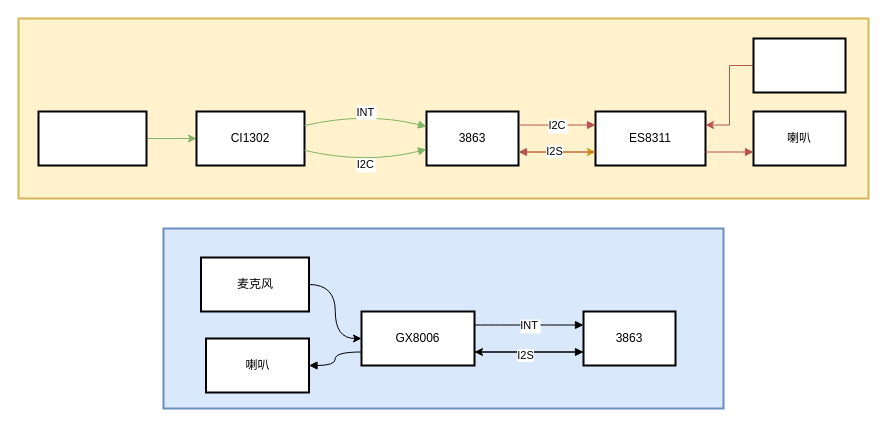
The diagram is 886 pixels wide and 426 high, and some of its shapes have lost their labels. The box of each missing label's shape, as (x1, y1, x2, y2) in pixels:
ES8311与CI1302混合方案: (17, 17, 869, 199)
GX8006方案替代: (162, 227, 724, 409)
麦克风1: (37, 110, 147, 166)
麦克风2: (752, 37, 846, 93)
